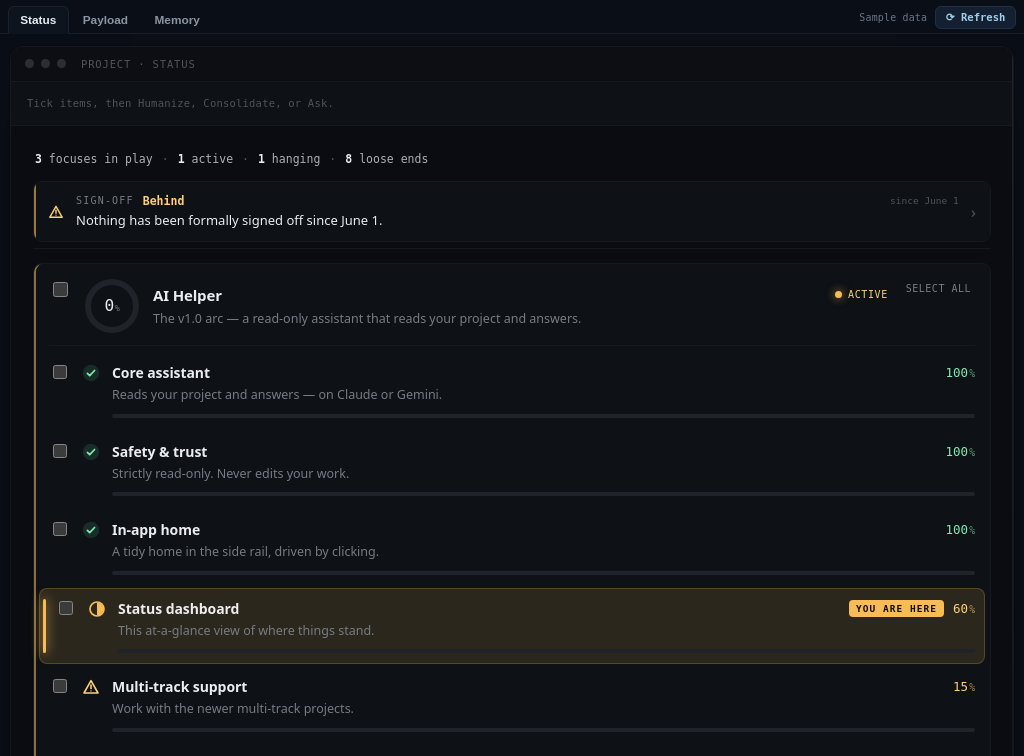
Test: Consolidate offers for 2+ items in a single focus — steps, not just loose-ends
Click the 1st checkbox with test id "item-check".
click(60, 372)  # box [53,365,67,379]
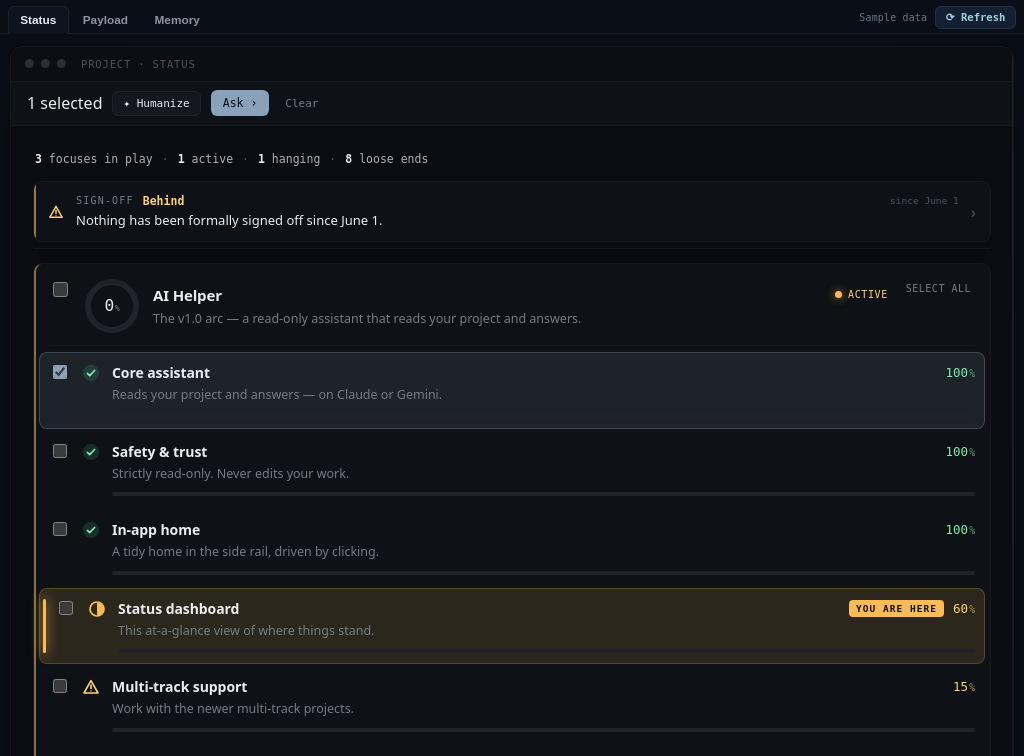
Click the 2nd checkbox with test id "item-check".
click(60, 451)  # box [53,444,67,458]
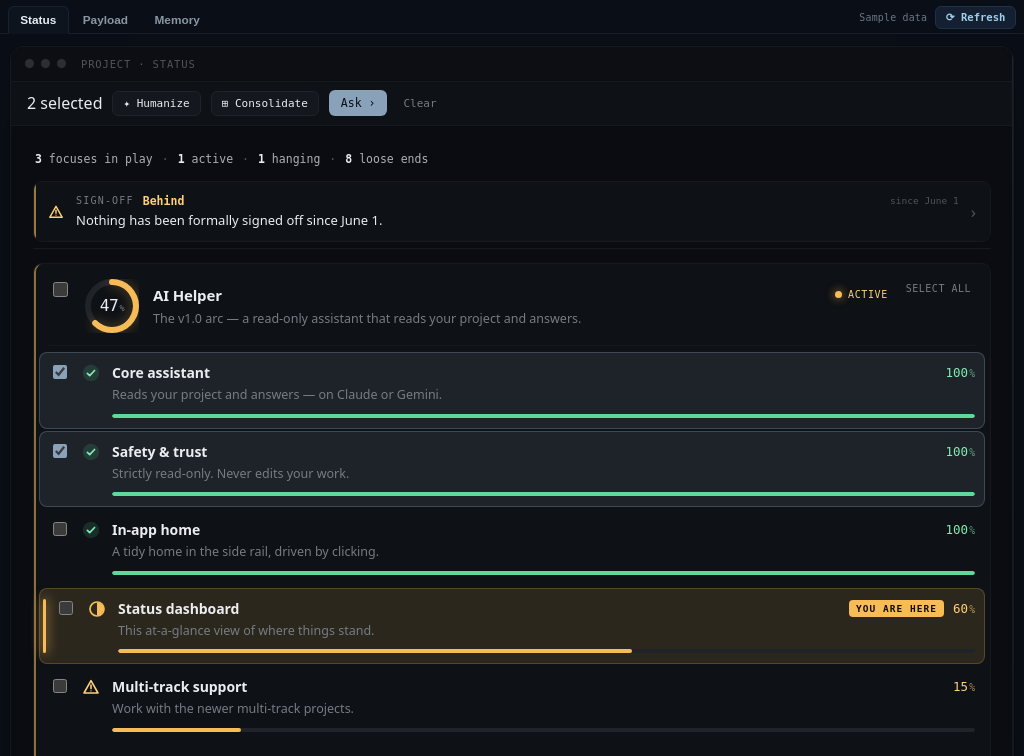
expect the button with test id "op-consolidate" is shown: met, box [211,91,319,116]
